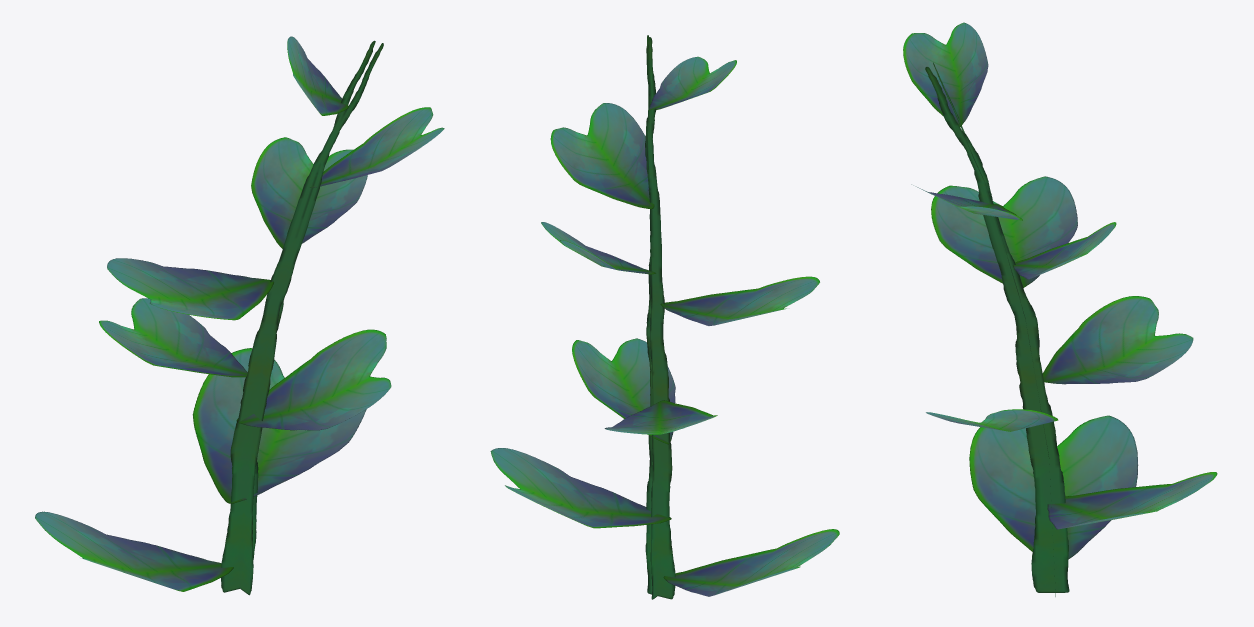
File: S_Heart.fbx
3 views of the same model, side by side, from view 1: azimuth 30°, elevation 25°; view 2: azimuth 150°, elevation 25°; view 3: azimuth 270°, elevation 25° (orthographic). The views are drawn at different scales.
Visible parts, largest first — view 1: S_foliage_heart; view 2: S_foliage_heart; view 3: S_foliage_heart.
Part boxes in pixels (<box>): S_foliage_heart: <box>35,36,444,595</box>; S_foliage_heart: <box>490,35,839,599</box>; S_foliage_heart: <box>903,22,1217,596</box>.
Size of the model in its own units: 33.32 by 28.93 by 53.24.
